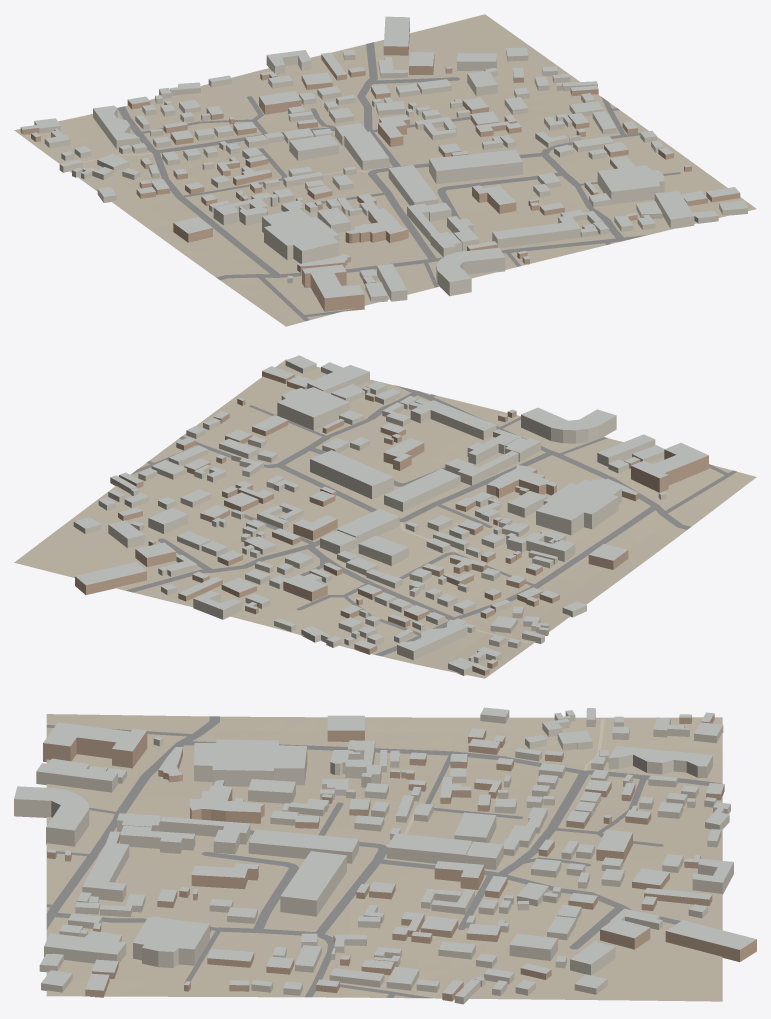
Rendered from bolak_-8_-3.glb.
The picture shows the model from 3 angles, top to bottom: view 1: azimuth 30°, elevation 25°; view 2: azimuth 150°, elevation 25°; view 3: azimuth 270°, elevation 25°; orthographic projection. The views are drawn at different scales.
Visible parts, largest first — view 1: Yer_Tuproq-col, Tom_Shifer, Devor_Suvoq-col, Devor_Gisht-col, Yol_Mahalla-col; view 2: Yer_Tuproq-col, Tom_Shifer, Devor_Suvoq-col, Devor_Gisht-col, Yol_Mahalla-col; view 3: Yer_Tuproq-col, Tom_Shifer, Devor_Suvoq-col, Devor_Gisht-col, Yol_Mahalla-col.
Part boxes in pixels (x1,y1,x2,y2): Yer_Tuproq-col: (14,14,756,326); Tom_Shifer: (21,16,747,298); Devor_Suvoq-col: (34,50,747,302); Devor_Gisht-col: (20,22,740,311); Yol_Mahalla-col: (117,42,680,321); Yer_Tuproq-col: (14,359,756,678); Tom_Shifer: (74,355,708,670); Devor_Suvoq-col: (73,361,666,675); Devor_Gisht-col: (75,371,708,675); Yol_Mahalla-col: (125,385,737,656); Yer_Tuproq-col: (46,714,722,1001); Tom_Shifer: (14,707,756,997); Devor_Suvoq-col: (14,710,733,1004); Devor_Gisht-col: (43,714,756,1001); Yol_Mahalla-col: (46,716,722,998).
Size of what is drawn, in the model's own units: 412 by 17.92 by 440.
